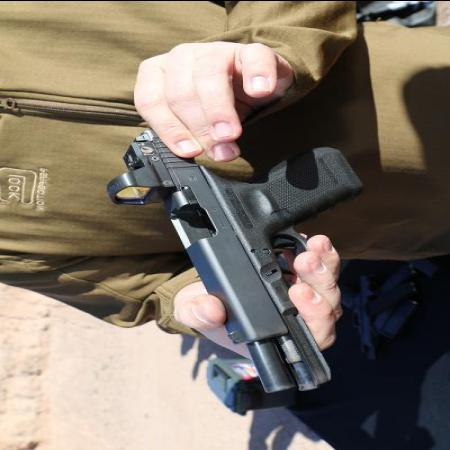Pistol: (87, 106, 363, 394)
